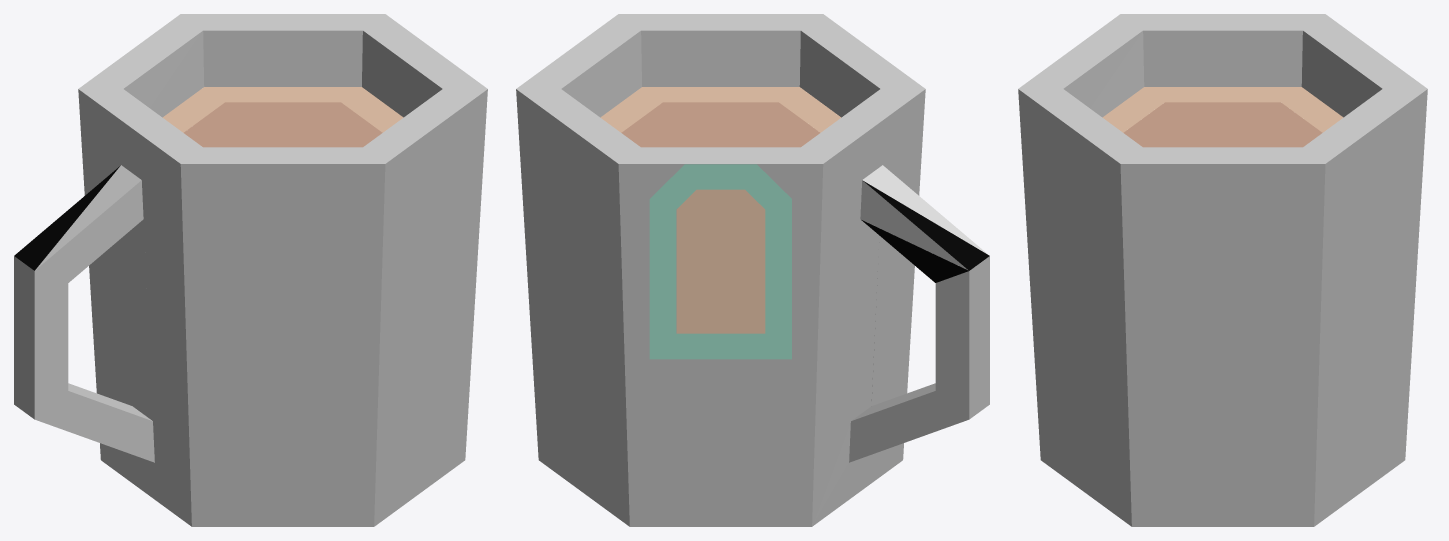
Rendered from tea.gltf.
3 renders of one model, left to right at view 1: azimuth 30°, elevation 25°; view 2: azimuth 150°, elevation 25°; view 3: azimuth 270°, elevation 25°, orthographic.
Visible parts, largest first — view 1: cupThea; view 2: cupThea, label; view 3: cupThea.
Part boxes in pixels (x1,y1,x2,y2): cupThea: (14, 14, 487, 526); cupThea: (516, 14, 989, 526); label: (649, 164, 791, 359); cupThea: (1018, 14, 1427, 526).
Bounding box in the file's own units: 0.2325 × 0.2 × 0.2034.
